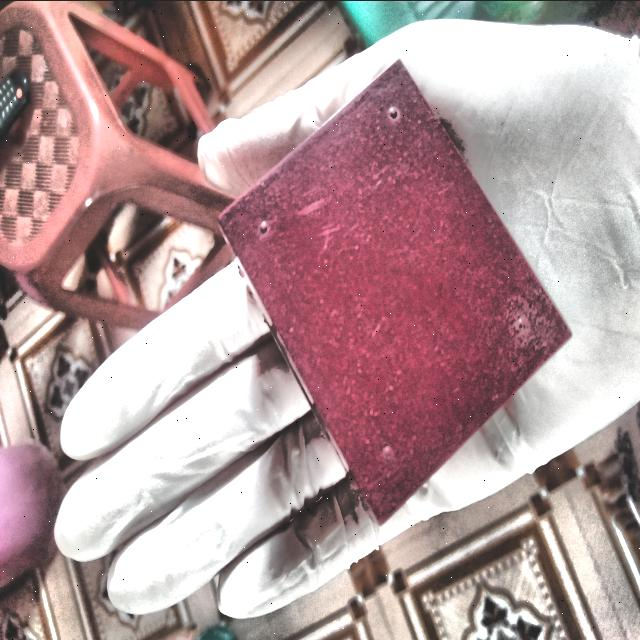gloved: (43, 14, 637, 624)
